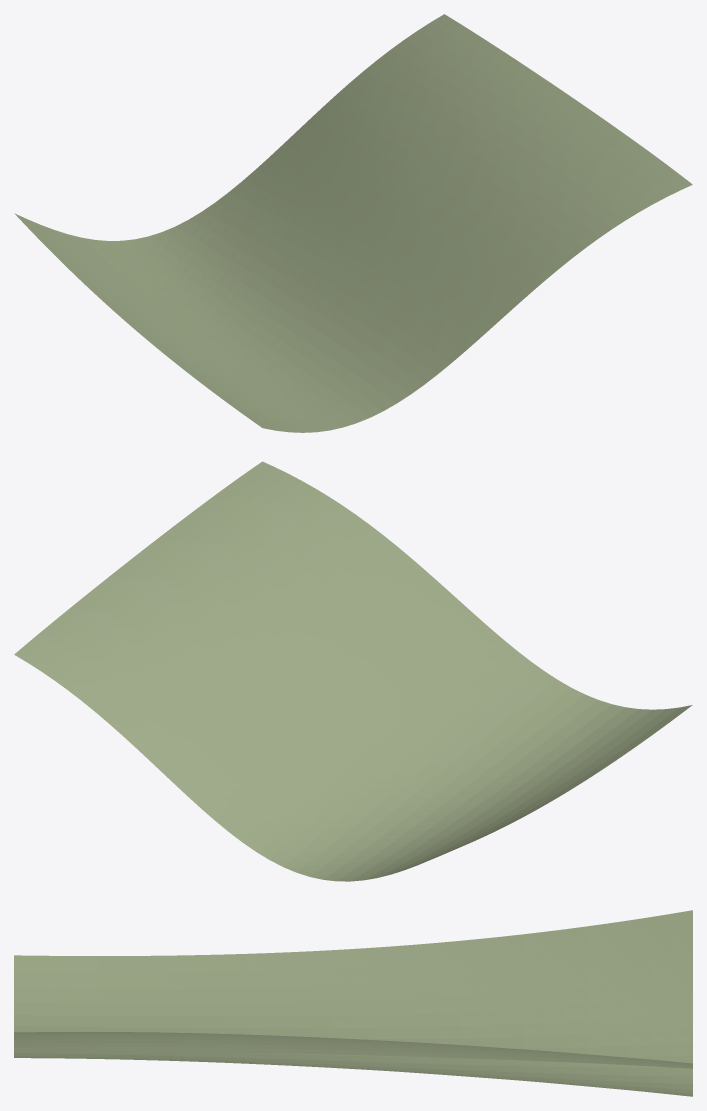
File: expanse-11-18.glb
3 views of the same model, one above another, from view 1: azimuth 30°, elevation 25°; view 2: azimuth 150°, elevation 25°; view 3: azimuth 270°, elevation 25° (orthographic). The views are drawn at different scales.
Parts seen in each view (by area): view 1: expanse-11-18; view 2: expanse-11-18; view 3: expanse-11-18.
Part boxes in pixels (left/top/right/bottom): expanse-11-18: left=14, top=14, right=692, bottom=432; expanse-11-18: left=14, top=461, right=692, bottom=881; expanse-11-18: left=14, top=910, right=692, bottom=1096.
Bounding box in the file's own units: 256 × 92.32 × 256.
